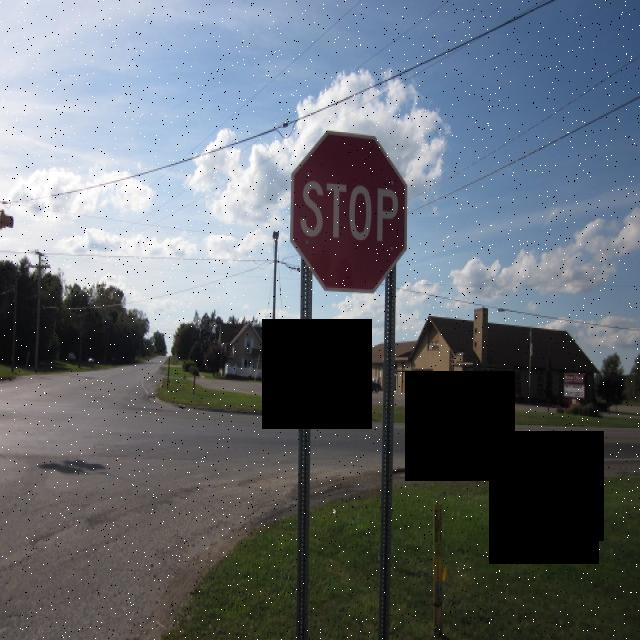stop: (283, 126, 414, 303)
